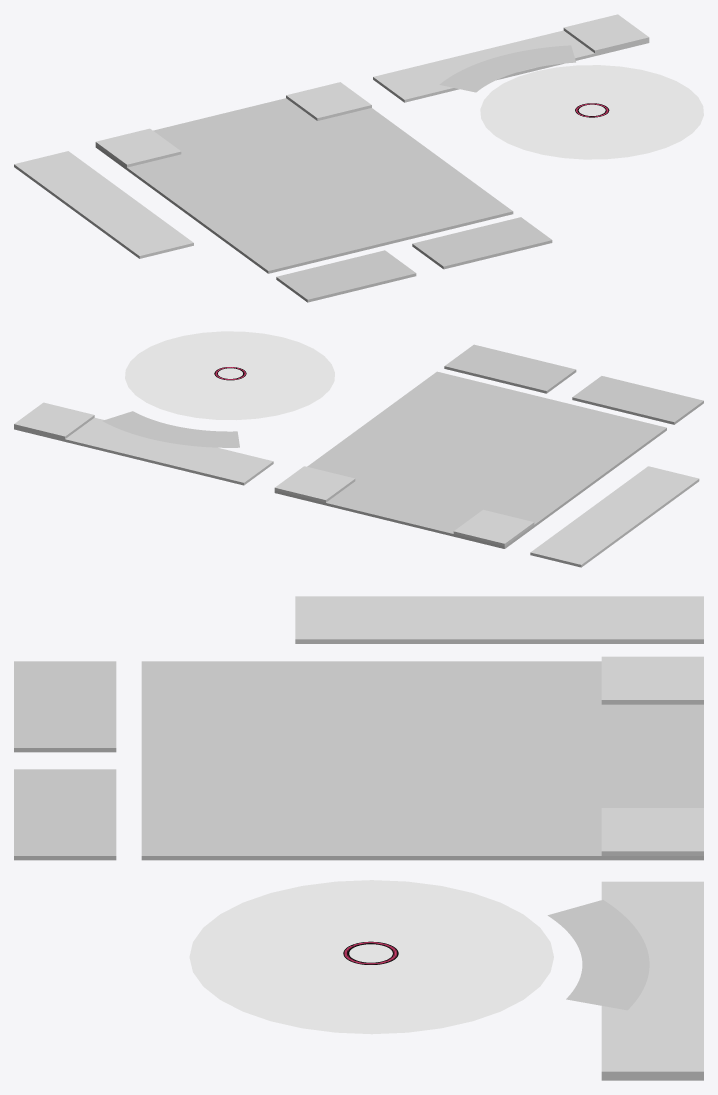
The model's file is 0402palette.gltf.
3 views of the same model, one above another, from view 1: azimuth 30°, elevation 25°; view 2: azimuth 150°, elevation 25°; view 3: azimuth 270°, elevation 25° (orthographic). The views are drawn at different scales.
Visible parts, largest first — view 1: hue, search-text, description, button7, button9, button8, button4, button1, button6, button2, button5, button3 (+10 smaller); view 2: hue, search-text, description, button7, button4, button9, button5, button2, button6, button8, stop, run (+10 smaller); view 3: hue, search-text, description, button3, button6, button9, button1, button4, button7, button5, button2, button8 (+10 smaller).
Boxes of the visible parts, x1,y1,x2,y2 form: hue: (480,65,703,159); search-text: (373,30,649,102); description: (95,98,316,169); button7: (221,216,349,273); button9: (385,177,513,233); button8: (303,197,431,253); button4: (174,182,302,238); button1: (127,147,255,204); button6: (337,142,465,196); button2: (209,128,336,181); button5: (256,162,383,216); button3: (290,108,418,161); hue: (125,331,334,420); search-text: (14,417,273,485); description: (274,481,534,548); button7: (546,409,666,462); button4: (502,441,622,494); button9: (393,371,513,422); button5: (425,422,545,473); button2: (381,455,501,505); button6: (349,404,468,454); button8: (470,390,589,441); stop: (444,344,576,393); run: (572,376,703,424); hue: (189,880,553,1034); search-text: (601,881,703,1080); description: (601,704,703,860); button3: (448,791,601,860); button6: (295,791,448,860); button9: (141,791,294,860); button1: (448,661,601,726); button4: (295,661,448,726); button7: (141,661,294,726); button5: (295,726,448,790); button2: (448,726,601,790); button8: (141,726,294,790).
Bounding box in the file's own units: 0.37 × 0.00923 × 0.225.
Materials: 11 (1 with a texture image).
